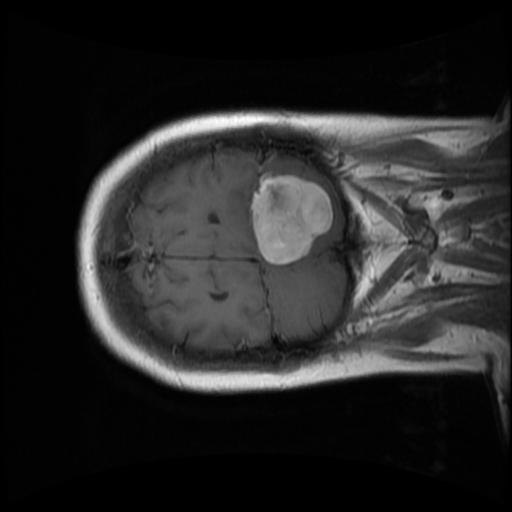meningioma: (249, 171, 333, 264)
